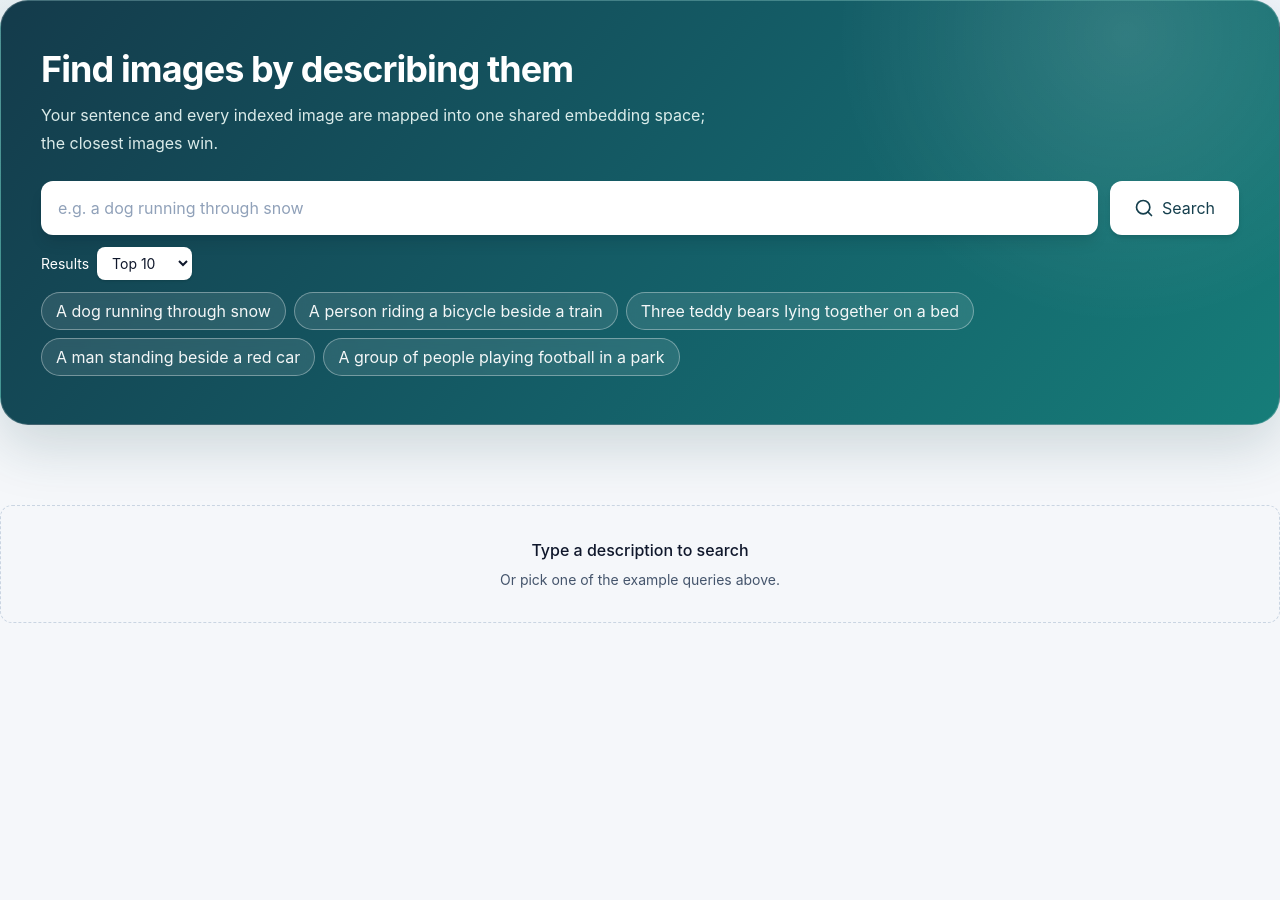
it: SearchPage › asks for a description instead of calling the API when the query is blank
Click the button "Search" at (1174, 208), box [1110,181,1239,235]
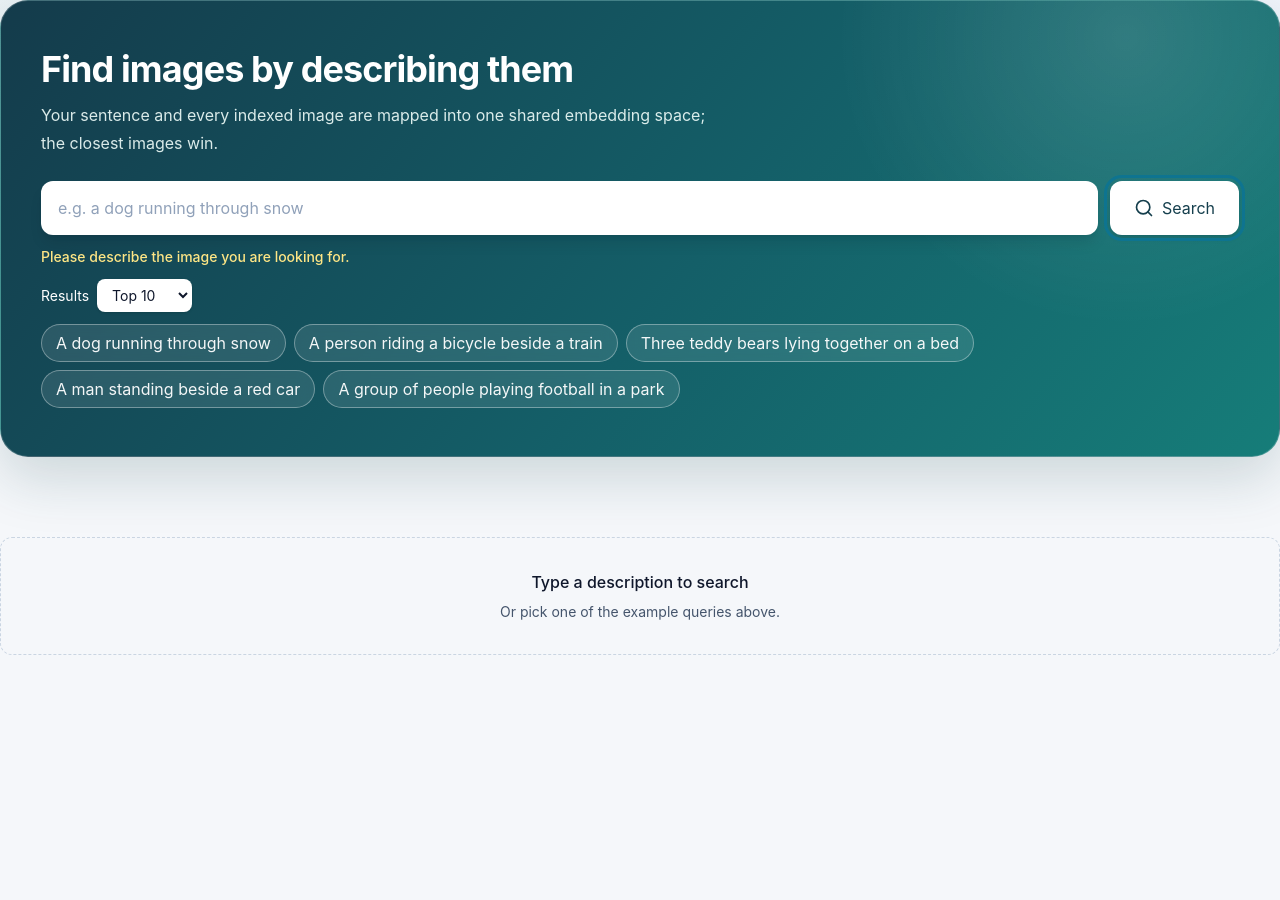
Expected: the message shows "describe the image", [41,248,349,265]
